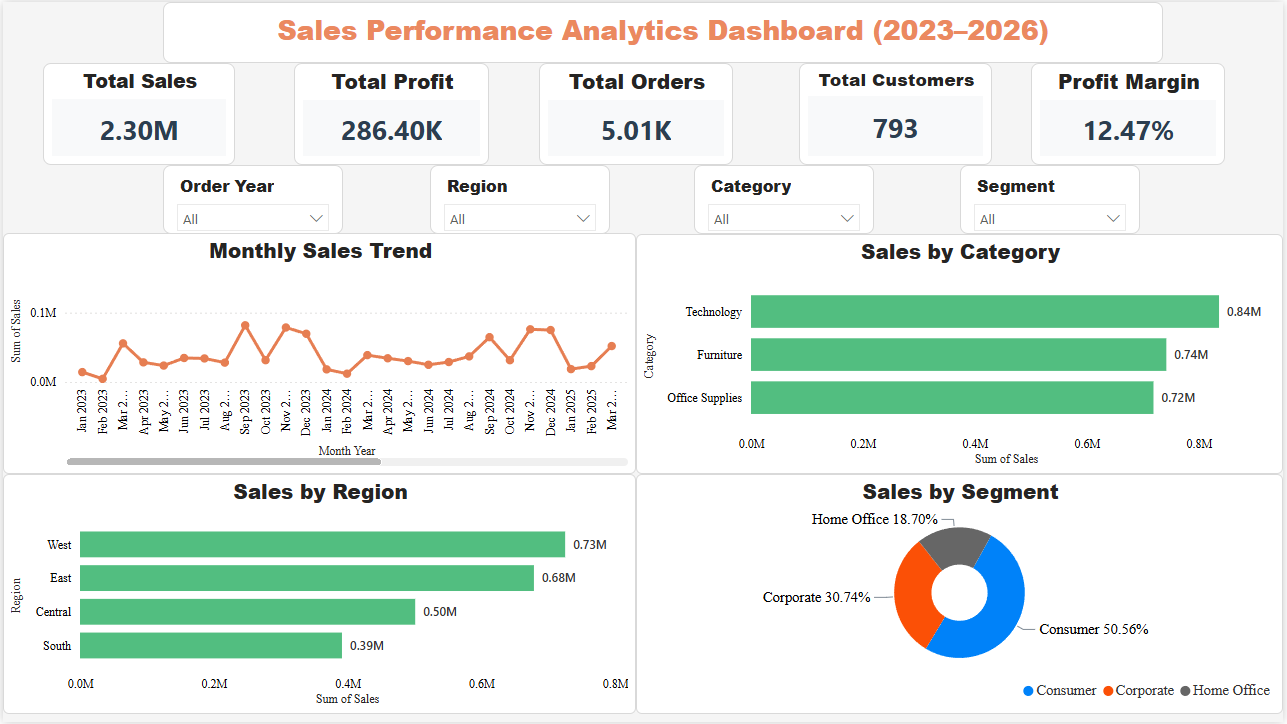

Layout of this report page (visuals, bound fields, positions):
{"tool":"powerbi","page":{"name":"Executive Summary Dashboard","canvas":[1280,720],"ordinal":0},"visuals":[{"type":"textbox","box":[160,0,1000,61.1],"z":0},{"type":"cardVisual","title":"Total Sales","fields":{"Data":["Sum(sales_customer_data.Sales)"]},"box":[40,61.1,192.2,102.2],"z":1000},{"type":"cardVisual","title":"Total Profit","fields":{"Data":["Sum(sales_customer_data.Profit)"]},"box":[291.1,61.1,194.4,102.2],"z":2000},{"type":"cardVisual","title":"Total Orders","fields":{"Data":["Count(sales_customer_data.Order ID)"]},"box":[535.6,61.1,194.4,102.2],"z":3000},{"type":"cardVisual","title":"Total Customers","fields":{"Data":["Count(sales_customer_data.Customer ID)"]},"box":[795.6,61.1,193.3,102.2],"z":4000},{"type":"cardVisual","title":"Profit Margin","fields":{"Data":["sales_customer_data.Profit Margin %"]},"box":[1027.8,61.1,194.4,102.2],"z":5000},{"type":"lineChart","title":"Monthly Sales Trend","fields":{"Y":["Sum(sales_customer_data.Sales)"],"Category":["sales_customer_data.Month Year"]},"box":[0,231.5,633.2,240.2],"z":6000},{"type":"clusteredBarChart","title":"Sales by Category","fields":{"Category":["sales_customer_data.Category"],"Y":["Sum(sales_customer_data.Sales)"]},"box":[633.3,232.2,646.7,240],"z":7000},{"type":"clusteredBarChart","title":"Sales by Region","fields":{"Category":["sales_customer_data.Region"],"Y":["Sum(sales_customer_data.Sales)"]},"box":[0,472.2,633.3,240],"z":8000},{"type":"donutChart","title":"Sales by Segment","fields":{"Category":["sales_customer_data.Segment"],"Y":["Sum(sales_customer_data.Sales)"]},"box":[633.3,472.2,646.7,240],"z":9000},{"type":"slicer","fields":{"Values":["sales_customer_data.Order Year"]},"box":[160,163.3,180,68.9],"z":10000},{"type":"slicer","fields":{"Values":["sales_customer_data.Region"]},"box":[426.7,163.3,180,68.9],"z":11000},{"type":"slicer","fields":{"Values":["sales_customer_data.Category"]},"box":[691.1,163.3,180,68.9],"z":12000},{"type":"slicer","fields":{"Values":["sales_customer_data.Segment"]},"box":[956.7,163.3,180,68.9],"z":13000}]}

Visuals, with their boxes in screenshot pixels (x1, y1, x2, y2), scaled from the page's 1280x720 canvas onto the 1287x724 screenshot:
textbox: detection(161, 0, 1166, 61)
"Total Sales" cardVisual: detection(40, 61, 233, 164)
"Total Profit" cardVisual: detection(293, 61, 488, 164)
"Total Orders" cardVisual: detection(539, 61, 734, 164)
"Total Customers" cardVisual: detection(800, 61, 994, 164)
"Profit Margin" cardVisual: detection(1033, 61, 1229, 164)
"Monthly Sales Trend" lineChart: detection(0, 233, 637, 474)
"Sales by Category" clusteredBarChart: detection(637, 233, 1286, 475)
"Sales by Region" clusteredBarChart: detection(0, 475, 637, 716)
"Sales by Segment" donutChart: detection(637, 475, 1286, 716)
slicer - sales_customer_data.Order Year: detection(161, 164, 342, 233)
slicer - sales_customer_data.Region: detection(429, 164, 610, 233)
slicer - sales_customer_data.Category: detection(695, 164, 876, 233)
slicer - sales_customer_data.Segment: detection(962, 164, 1143, 233)
